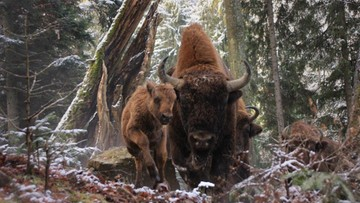zubr: (159, 21, 261, 192), (113, 74, 183, 187)
